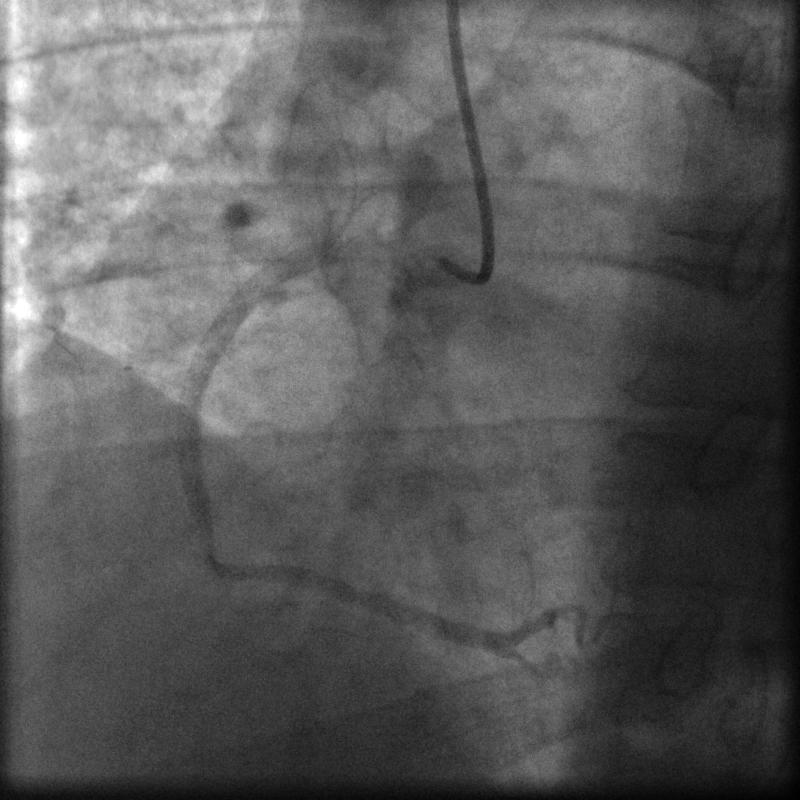Stenosis: (186, 490, 221, 567)
